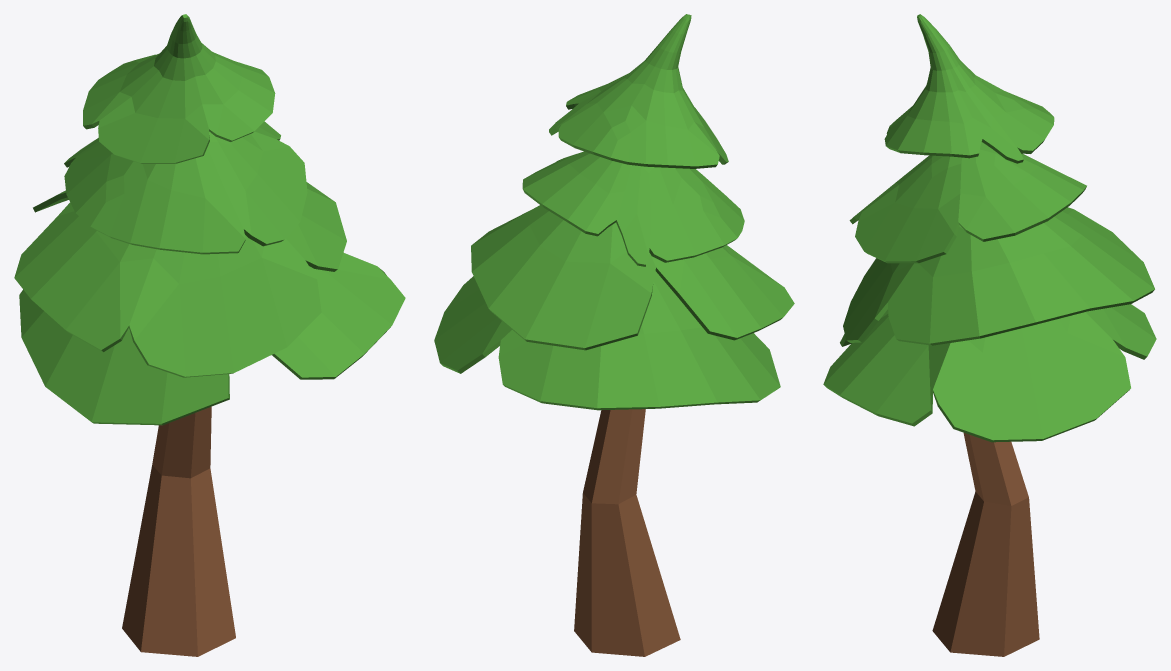
The model's file is fir.glb.
3 views of the same model, side by side, from view 1: azimuth 30°, elevation 25°; view 2: azimuth 150°, elevation 25°; view 3: azimuth 270°, elevation 25° (orthographic). The views are drawn at different scales.
Parts seen in each view (by area): view 1: PineTree_5; view 2: PineTree_5; view 3: PineTree_5.
Boxes of the visible parts, bbox=[...] form: PineTree_5: bbox=[14, 14, 405, 656]; PineTree_5: bbox=[434, 14, 794, 656]; PineTree_5: bbox=[823, 14, 1156, 656].
Bounding box in the file's own units: 2.95 × 5.39 × 2.68.
